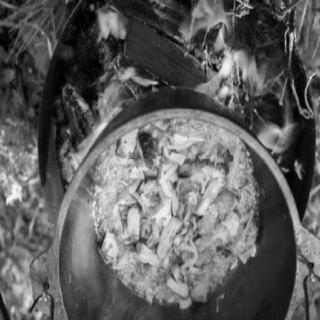Fire: (45, 2, 311, 195)
